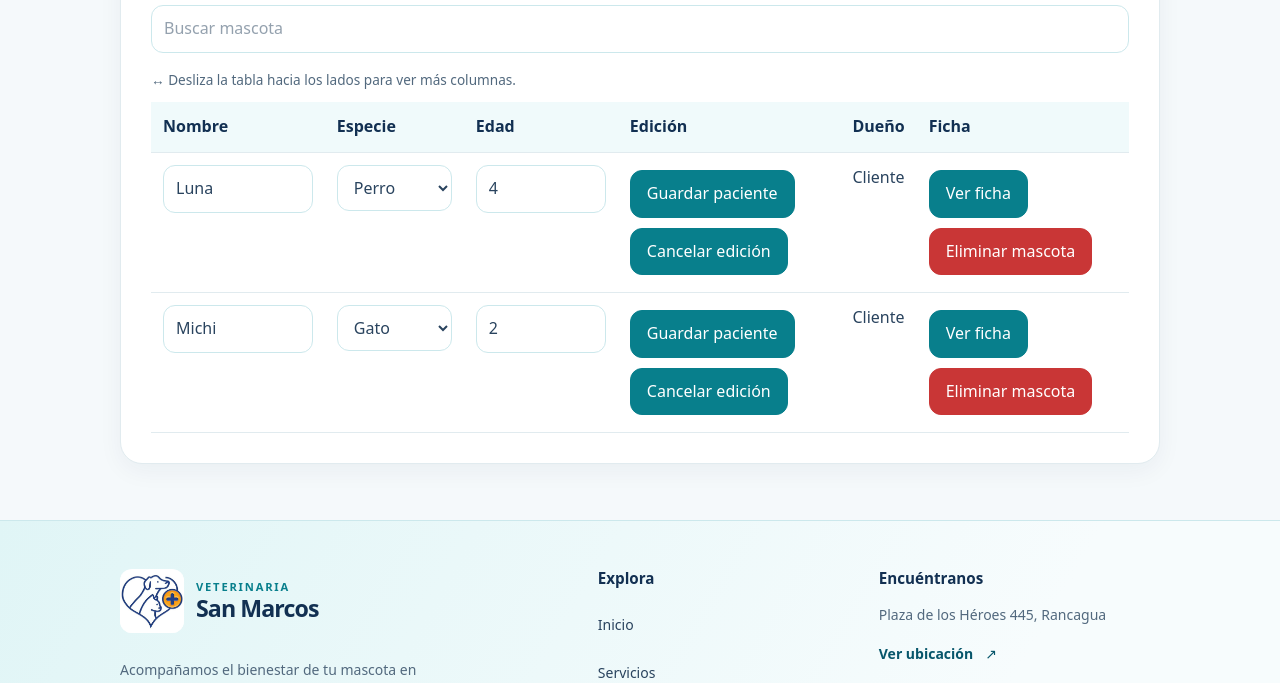
Test: Edición validada de registros › permite cancelar la edición de una mascota
(page scrolled)
Step 1. Replace the text in the field named "Mascota 2" with "Cambio temporal" → (238, 329), box [163,305,313,353]
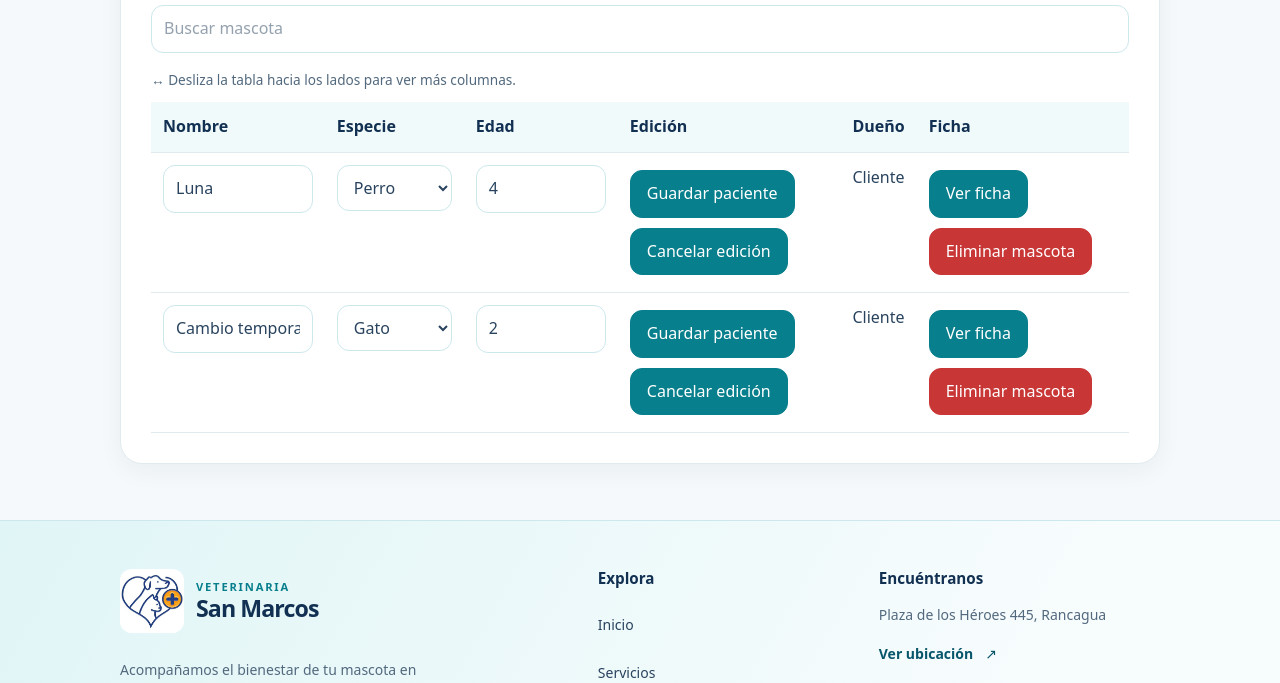
Step 2. Click the 2nd button "Cancelar edición" → (709, 392), box [630,368,788,416]
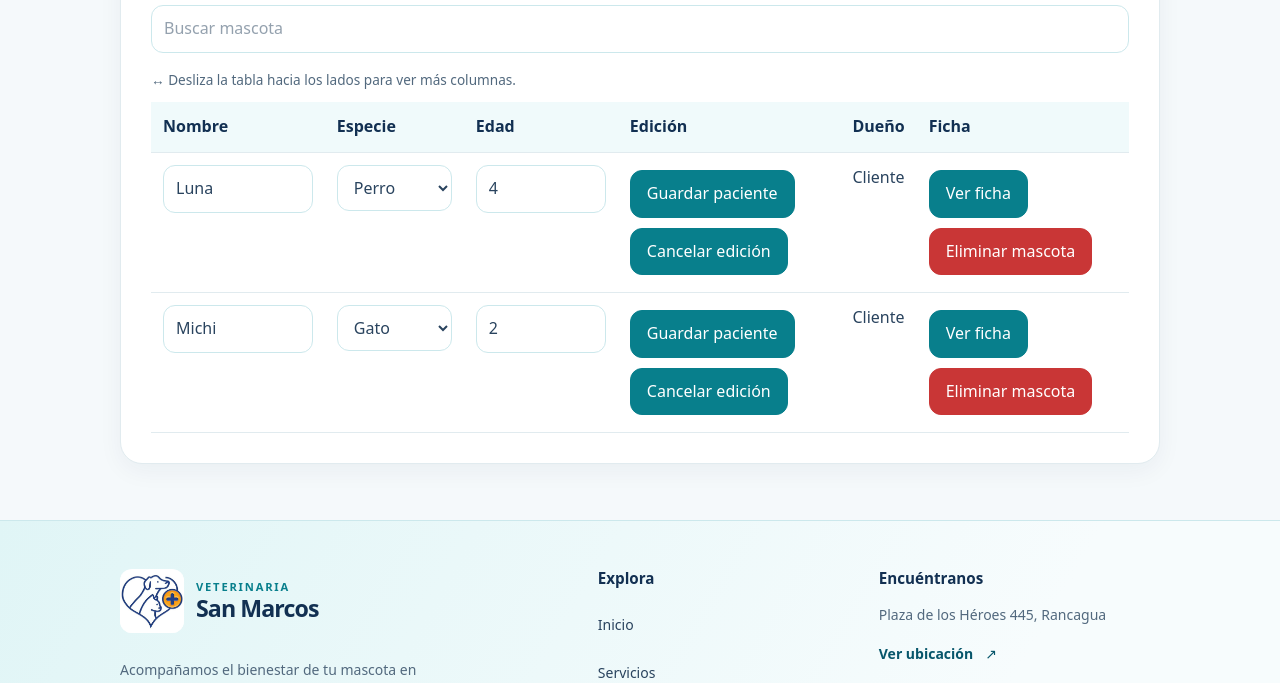
Expected: the field named "Mascota 2" holds "Michi", [163,305,313,353]
